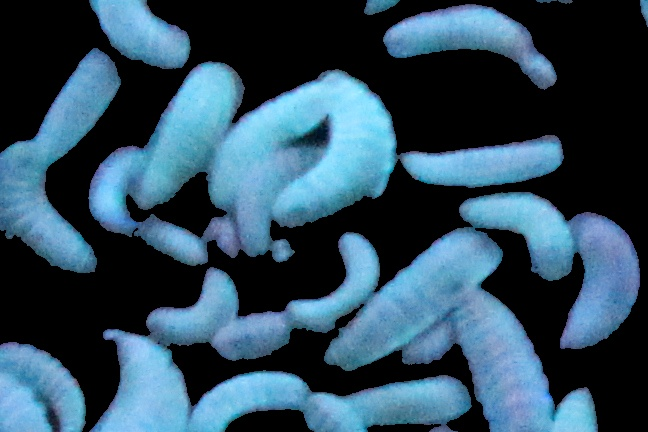larvae: (328, 226, 508, 377), (275, 70, 394, 223), (209, 79, 328, 214), (138, 55, 240, 206), (386, 4, 560, 89), (454, 292, 551, 432), (552, 214, 645, 357), (1, 140, 91, 279), (35, 40, 128, 167), (457, 189, 575, 286), (89, 330, 195, 432), (288, 231, 377, 331), (401, 133, 562, 184), (182, 373, 312, 432), (1, 341, 85, 432), (91, 1, 196, 72), (145, 267, 238, 343), (355, 374, 475, 426), (85, 147, 147, 235), (137, 213, 210, 268), (207, 315, 297, 358), (384, 328, 455, 372), (1, 375, 53, 432)
